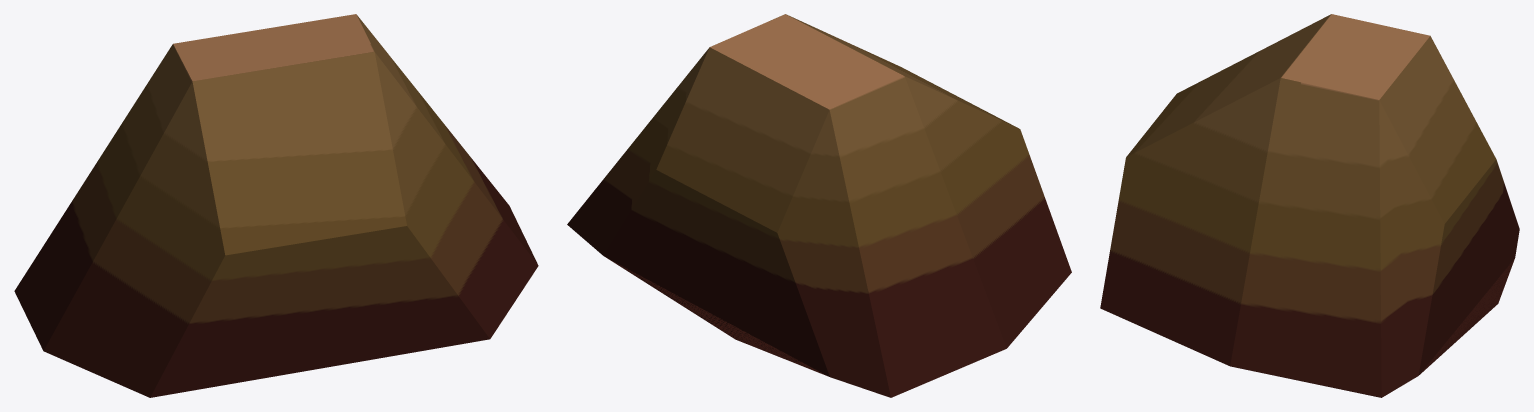
The model's file is boulder_01.fbx.
3 views of the same model, side by side, from view 1: azimuth 30°, elevation 25°; view 2: azimuth 150°, elevation 25°; view 3: azimuth 270°, elevation 25° (orthographic). The views are drawn at different scales.
Parts seen in each view (by area): view 1: pebble_01.007; view 2: pebble_01.007; view 3: pebble_01.007.
Boxes of the visible parts, left/top/right/bottom form: pebble_01.007: left=14, top=14, right=538, bottom=397; pebble_01.007: left=567, top=14, right=1071, bottom=397; pebble_01.007: left=1100, top=14, right=1519, bottom=397.
Bounding box in the file's own units: 185 × 102 × 146.
